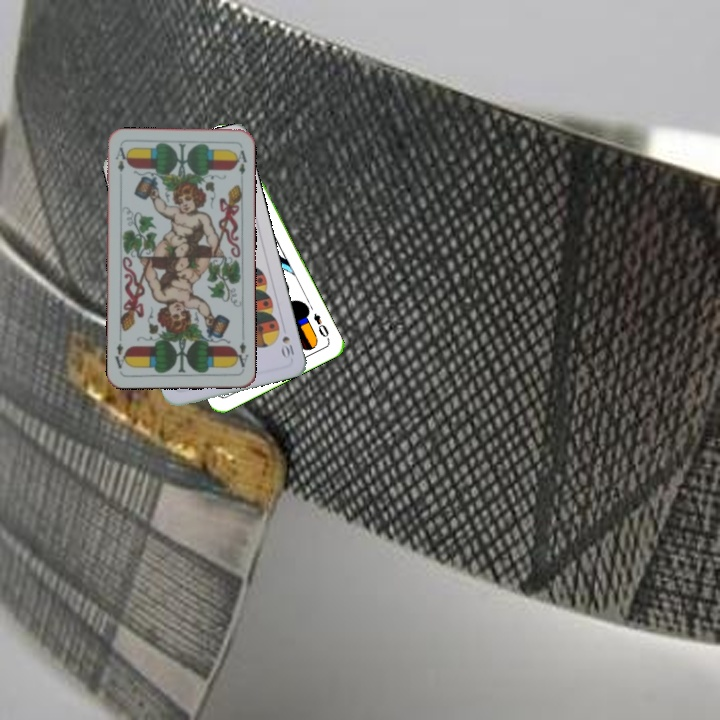EA: (231, 337, 250, 372), (112, 143, 129, 174)
EO: (309, 309, 332, 343)
S10: (277, 332, 297, 361)
